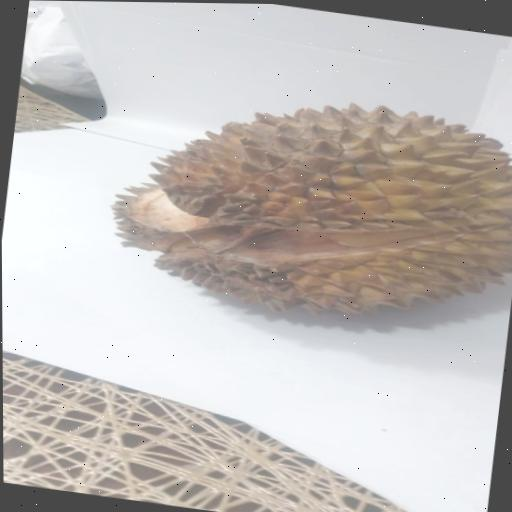rot: (76, 53, 512, 360)
